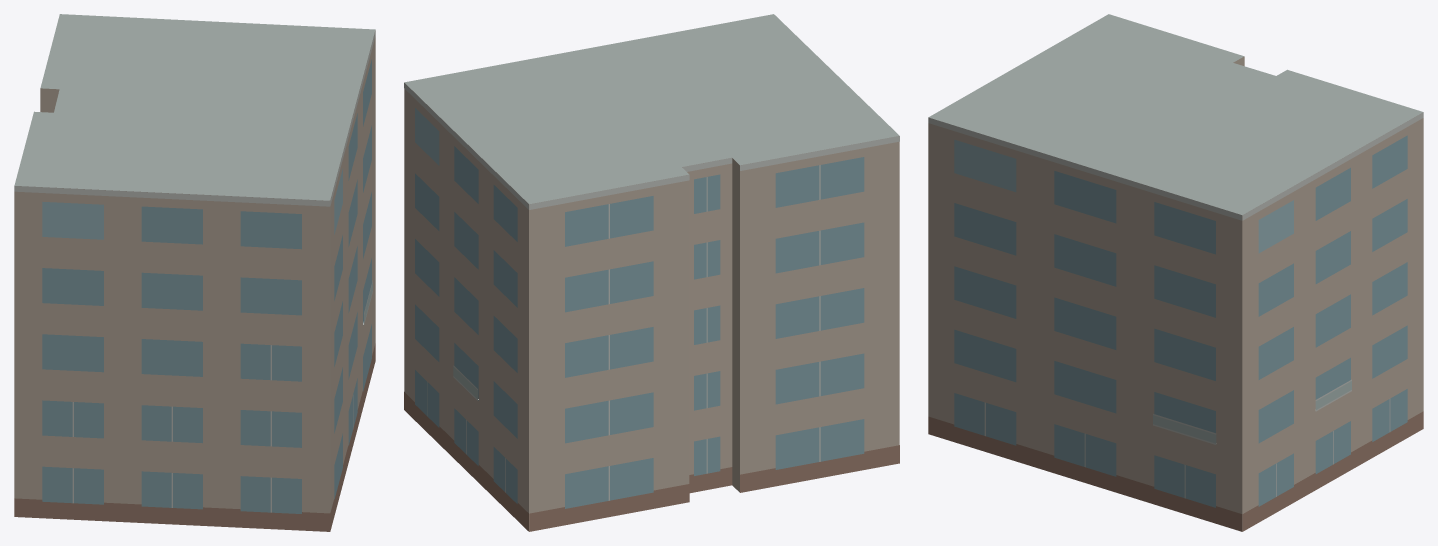
Rendered from survey-upis-33013402.glb.
3 renders of one model, left to right at view 1: azimuth 30°, elevation 25°; view 2: azimuth 150°, elevation 25°; view 3: azimuth 270°, elevation 25°, orthographic. The views are drawn at different scales.
Parts seen in each view (by area): view 1: survey-upis-33013402.tmp; view 2: survey-upis-33013402.tmp; view 3: survey-upis-33013402.tmp.
Part boxes in pixels (x1,y1,x2,y2): survey-upis-33013402.tmp: [14, 14, 375, 531]; survey-upis-33013402.tmp: [404, 14, 899, 531]; survey-upis-33013402.tmp: [928, 14, 1423, 531].
Bounding box in the file's own units: 18.68 × 13.7 × 19.43.
